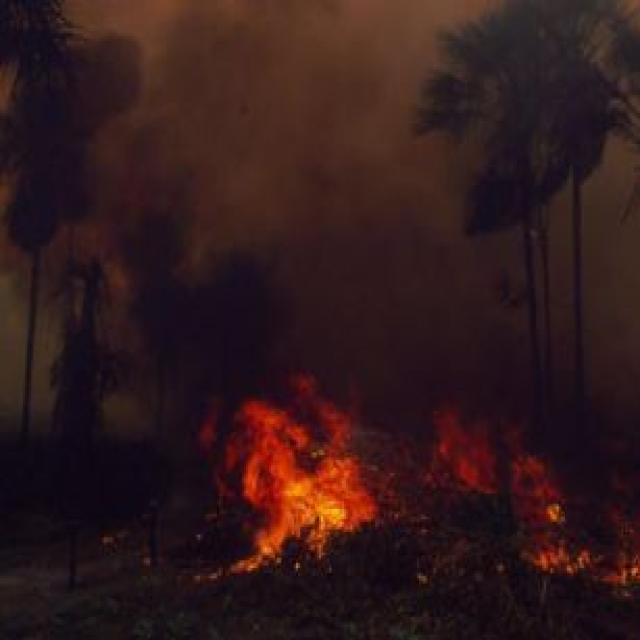Fire: (236, 396, 376, 570)
Smoke: (40, 0, 488, 405)
